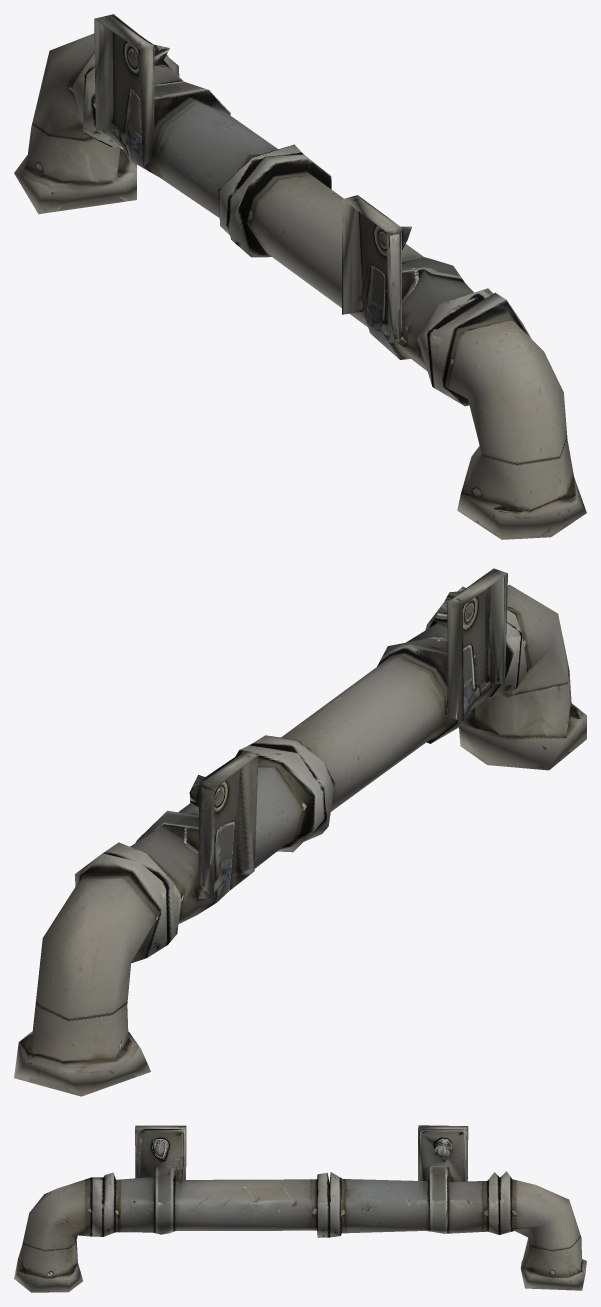
File: tripo_convert_5f42a52c-593f-4913-a3a0-e9eff3b49209.fbx
The picture shows the model from 3 angles, top to bottom: view 1: azimuth 30°, elevation 25°; view 2: azimuth 150°, elevation 25°; view 3: azimuth 270°, elevation 25°; orthographic projection. The views are drawn at different scales.
Visible parts, largest first — view 1: tripo_node_5f42a52c; view 2: tripo_node_5f42a52c; view 3: tripo_node_5f42a52c.
Part boxes in pixels (x1=…): tripo_node_5f42a52c: x1=14, y1=14, x2=586, y2=539; tripo_node_5f42a52c: x1=14, y1=568, x2=586, y2=1096; tripo_node_5f42a52c: x1=14, y1=1125, x2=586, y2=1292.
Size of the model in its own units: 0.1299 by 0.2651 by 0.9974.
1 material, 1 textured.
